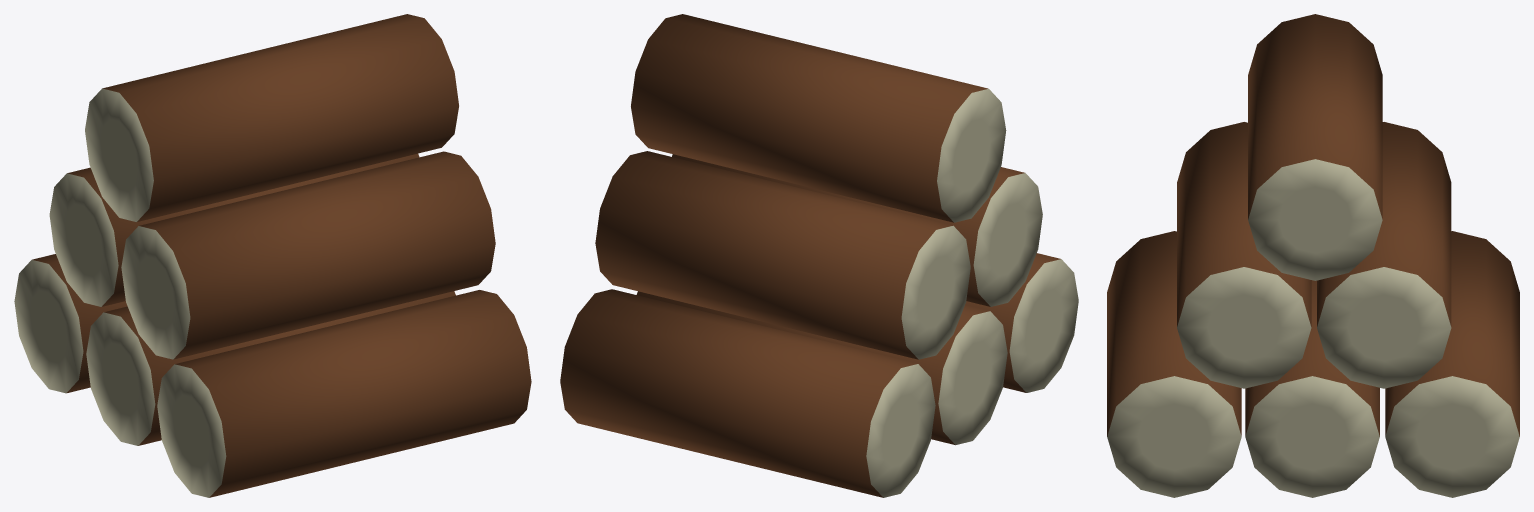
The model's file is WoodPile.fbx.
3 views of the same model, side by side, from view 1: azimuth 30°, elevation 25°; view 2: azimuth 150°, elevation 25°; view 3: azimuth 270°, elevation 25° (orthographic). The views are drawn at different scales.
Parts seen in each view (by area): view 1: WoodPile; view 2: WoodPile; view 3: WoodPile.
Boxes of the visible parts, left/top/right/bottom form: WoodPile: left=14, top=14, right=531, bottom=497; WoodPile: left=560, top=14, right=1078, bottom=497; WoodPile: left=1107, top=14, right=1519, bottom=497.
Size of the model in its own units: 41.59 by 45.31 by 50.
1 material, 1 textured.
